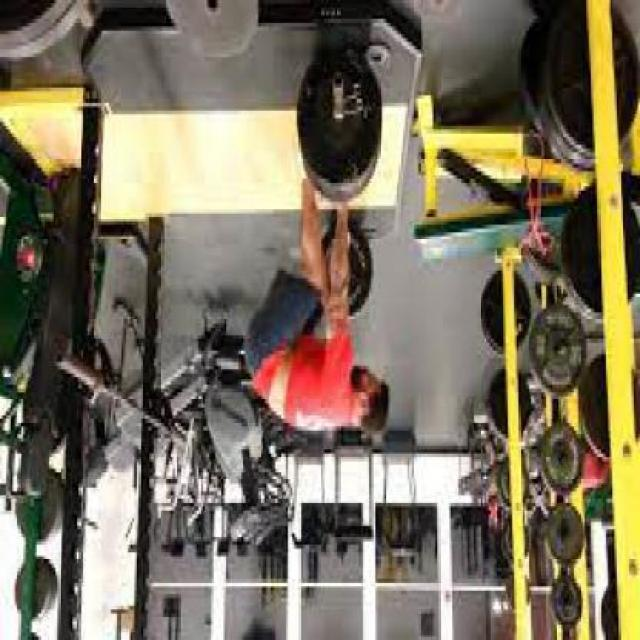Barbell: (331, 68, 347, 95)
